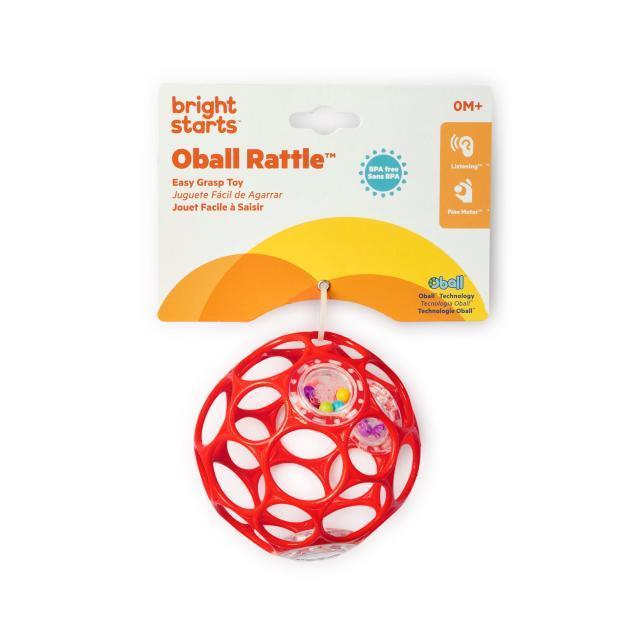hard-toy: (196, 332, 420, 559)
